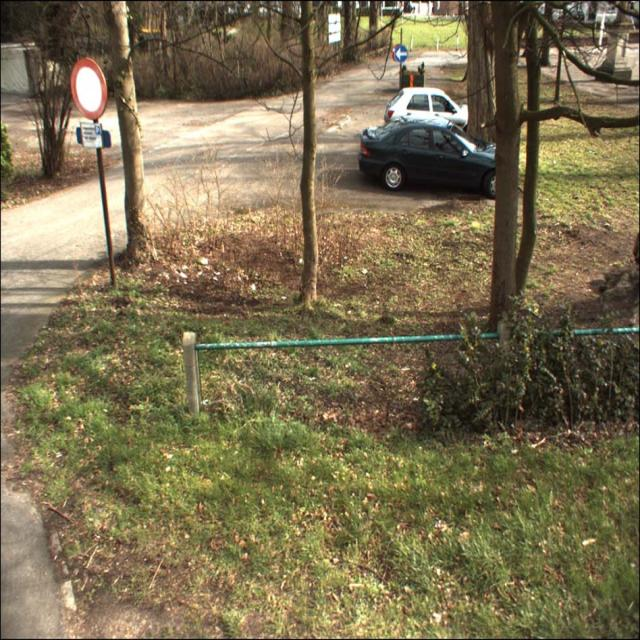sol: (396, 46, 408, 61)
